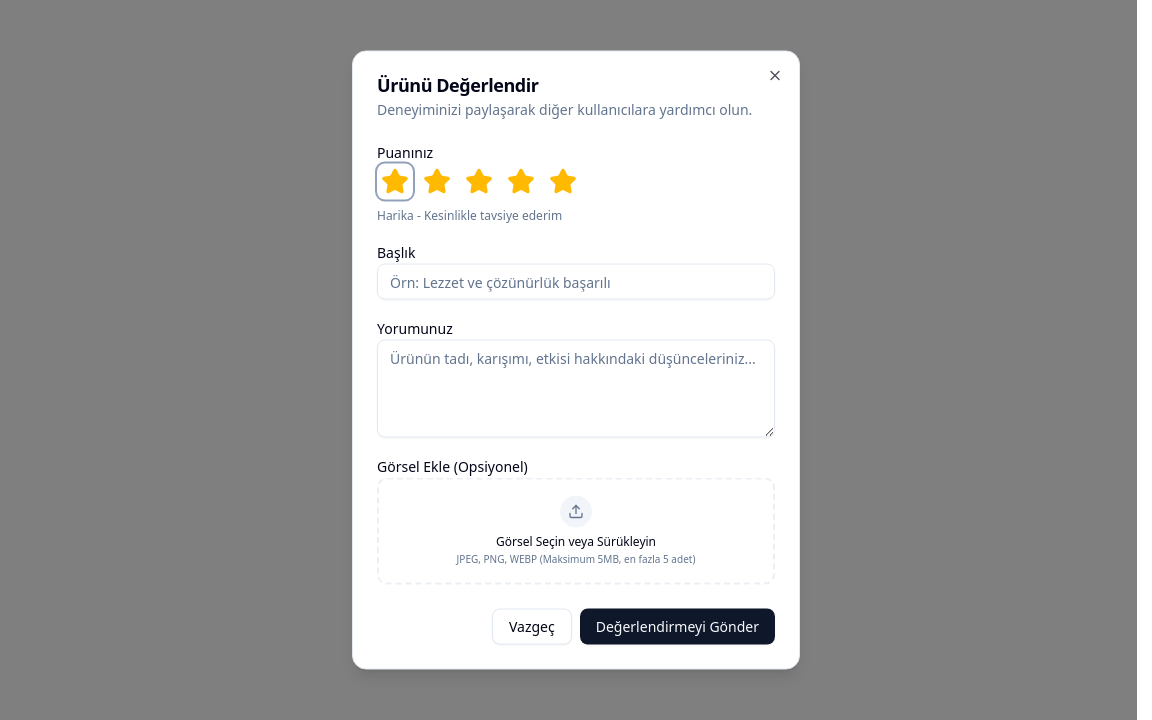
Test: ReviewFormModal Component › displays field errors and global error when submission fails
The image size is (1152, 720).
Click the button "Değerlendirmeyi Gönder": (677, 626) [580,608,775,644]
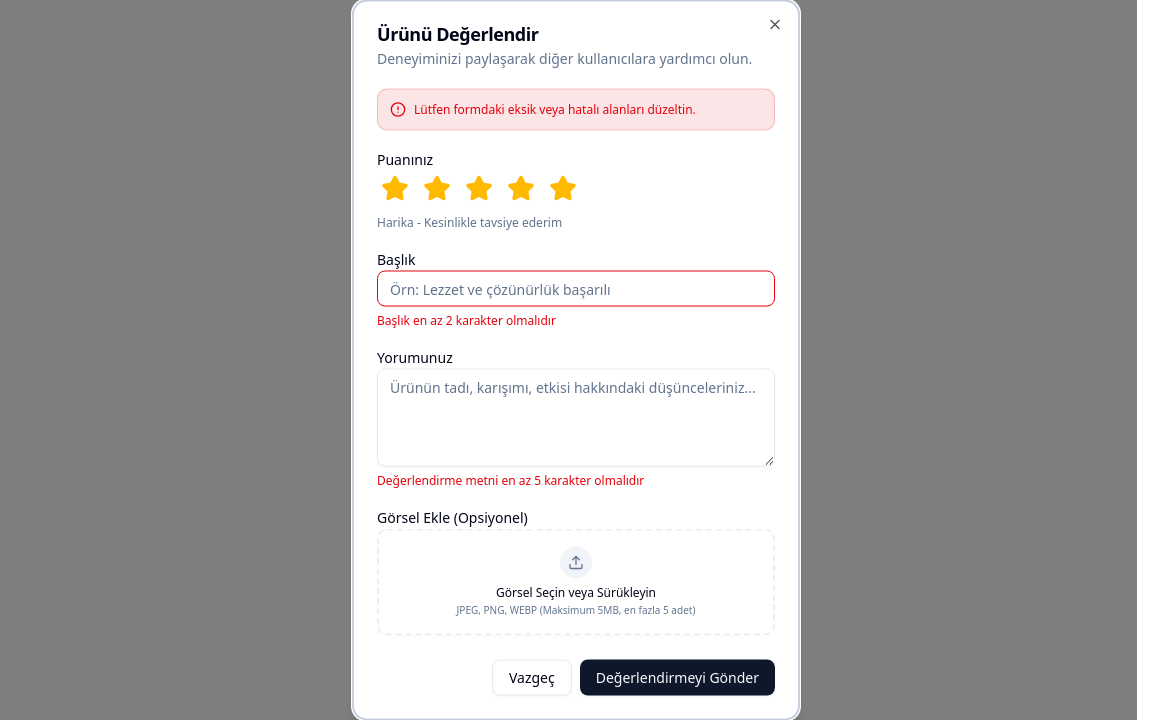
Expected: the text "Başlık en az 2 karakter olmalıdır" is shown, [377,312,556,328]
Expected: the text "Değerlendirme metni en az 5 karakter olmalıdır" is shown, [377,472,644,488]
Expected: the message reads "Lütfen formdaki eksik veya hatalı alanları düzeltin.", [414,100,696,118]
